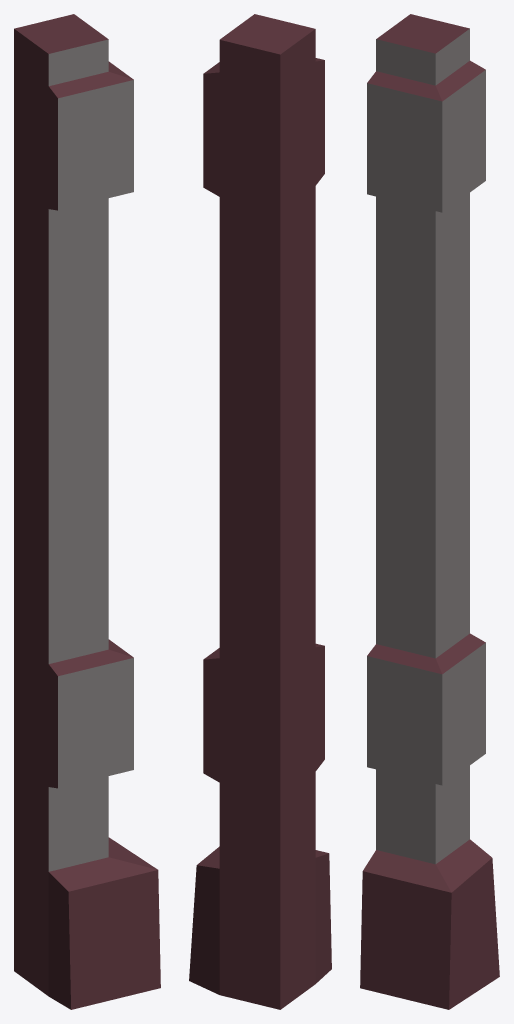
File: buildings-wall-stone-corner-b.glb
3 renders of one model, left to right at view 1: azimuth 30°, elevation 25°; view 2: azimuth 150°, elevation 25°; view 3: azimuth 330°, elevation 25°, orthographic. The views are drawn at different scales.
Parts seen in each view (by area): view 1: wall-stone-corner-b; view 2: wall-stone-corner-b; view 3: wall-stone-corner-b.
Boxes of the visible parts, left/top/right/bottom form: wall-stone-corner-b: left=14, top=14, right=160, bottom=1009; wall-stone-corner-b: left=189, top=14, right=331, bottom=1009; wall-stone-corner-b: left=360, top=14, right=499, bottom=1009.
Size of the model in its own units: 0.323 by 3 by 0.3114.
